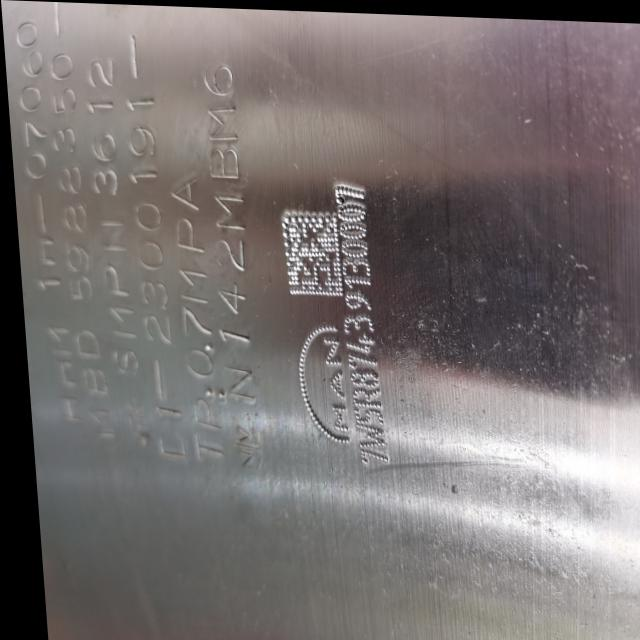dmc: (277, 212, 339, 294)
